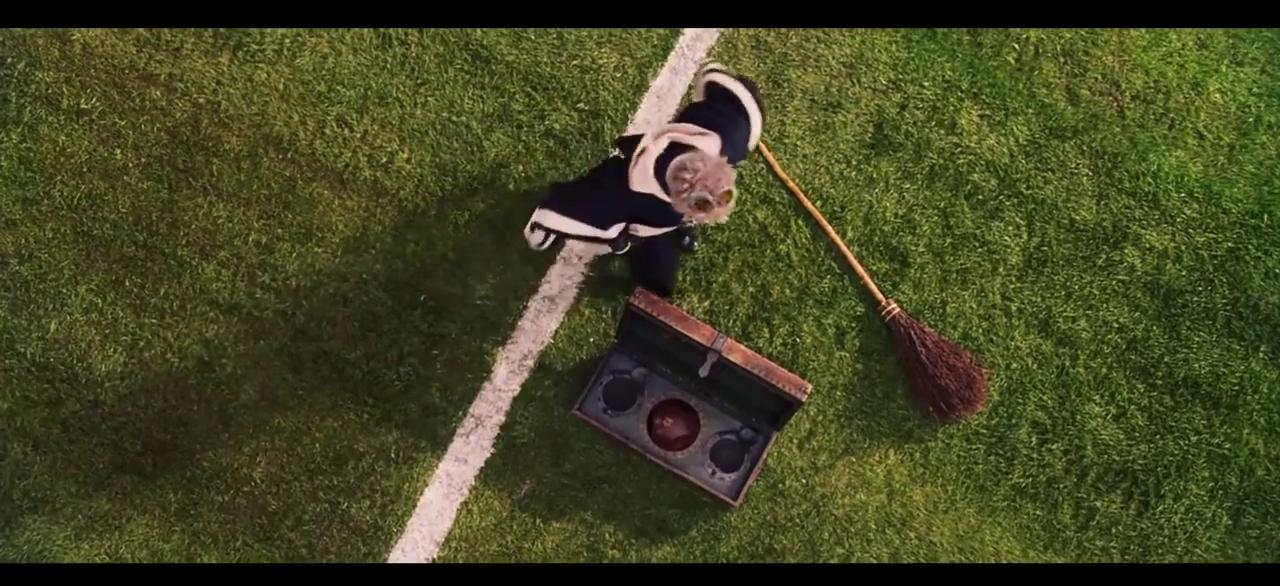quaffle: (650, 399, 697, 450)
